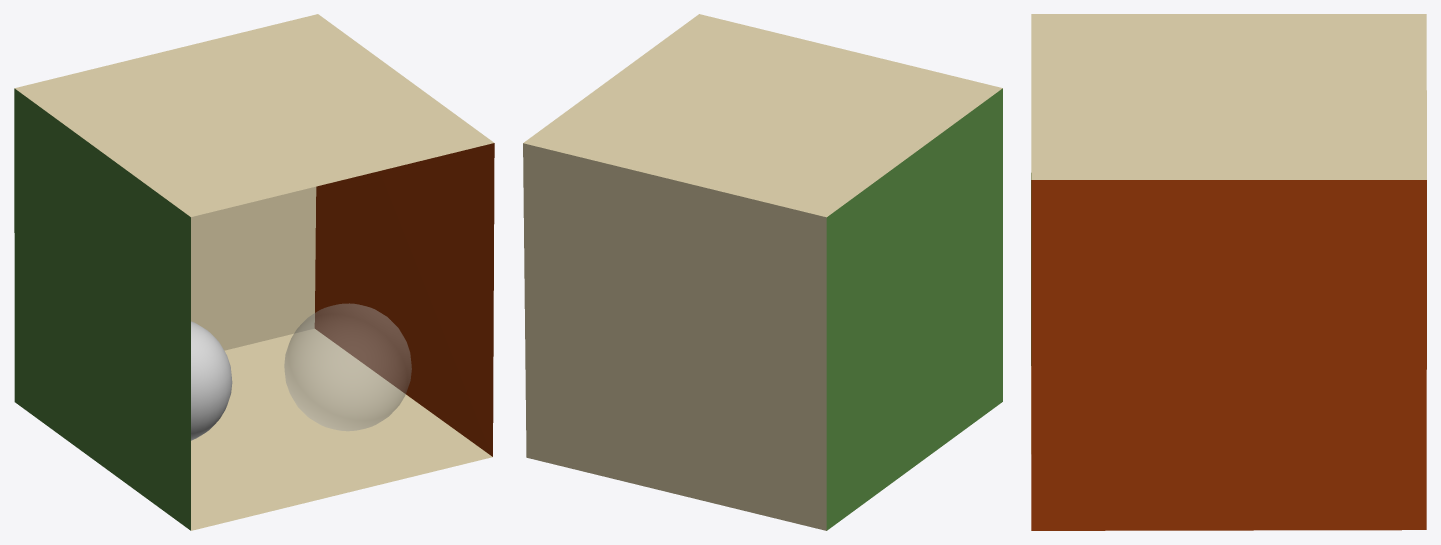
The model's file is cornellbox_spheres_metal_glass_plane_light.glb.
The picture shows the model from 3 angles, left to right: view 1: azimuth 30°, elevation 25°; view 2: azimuth 150°, elevation 25°; view 3: azimuth 270°, elevation 25°; orthographic projection. The views are drawn at different scales.
Parts seen in each view (by area): view 1: CornellBox_Empty, Sphere_R_Glass, Sphere_L_Metal; view 2: CornellBox_Empty; view 3: CornellBox_Empty.
Part boxes in pixels (x1=…): CornellBox_Empty: x1=14, y1=14, x2=494, y2=530; Sphere_R_Glass: x1=284, y1=303, x2=411, y2=430; Sphere_L_Metal: x1=191, y1=321, x2=232, y2=440; CornellBox_Empty: x1=523, y1=14, x2=1002, y2=530; CornellBox_Empty: x1=1031, y1=14, x2=1426, y2=530.
Size of the model in its own units: 0.7808 by 0.7709 by 0.7855.
